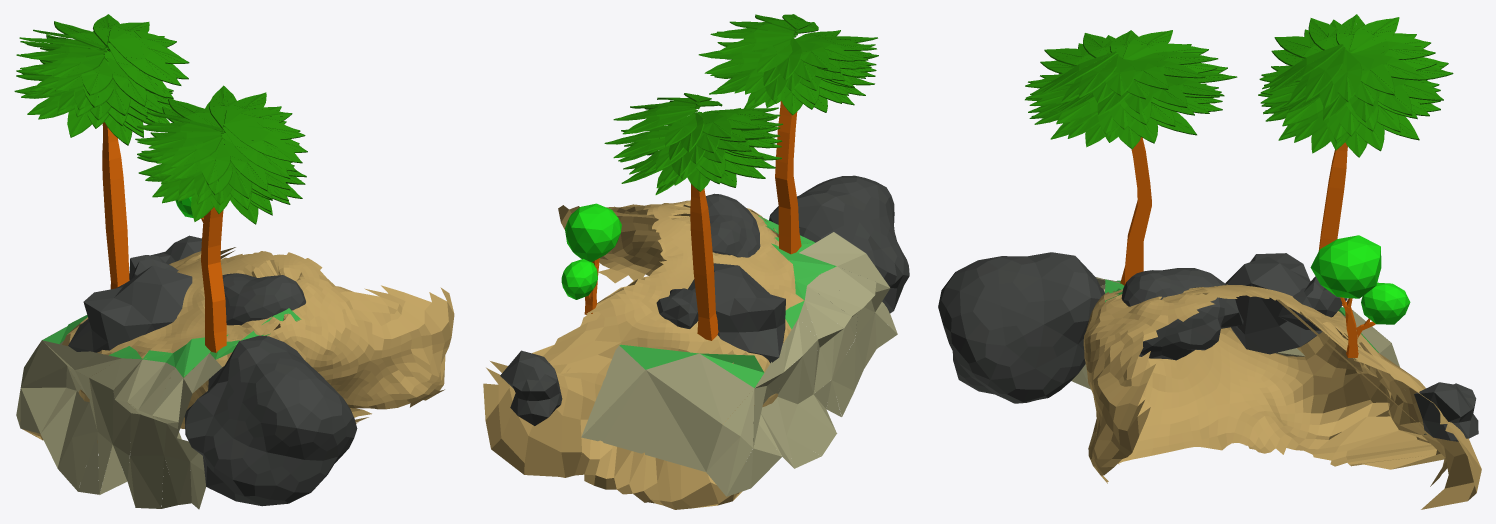
Rendered from island.glb.
The picture shows the model from 3 angles, left to right: view 1: azimuth 30°, elevation 25°; view 2: azimuth 150°, elevation 25°; view 3: azimuth 270°, elevation 25°; orthographic projection. The views are drawn at different scales.
Visible parts, largest first — view 1: 棱角球.004, 平面.040, 棱角球, 平面.108, 平面.062, 棱角球.001, 棱角球.005, 立方体, 立方体.001, 平面.002, 棱角球.003, 棱角球.002; view 2: 平面.040, 棱角球.004, 平面.108, 平面.062, 棱角球, 棱角球.001, 平面.002, 棱角球.003, 立方体, 立方体.001, 棱角球.005, 棱角球.008 (+2 smaller); view 3: 棱角球.004, 棱角球, 平面.062, 平面.108, 棱角球.005, 棱角球.001, 棱角球.008, 棱角球.003, 立方体.001, 立方体, 棱角球.006, 棱角球.002 (+2 smaller).
Boxes of the visible parts, <box> form: 棱角球.004: <box>20,247,454,442</box>; 平面.040: <box>16,327,222,509</box>; 棱角球: <box>184,335,357,506</box>; 平面.108: <box>135,85,307,224</box>; 平面.062: <box>14,14,189,145</box>; 棱角球.001: <box>68,265,192,352</box>; 棱角球.005: <box>222,273,305,325</box>; 立方体: <box>102,122,129,289</box>; 立方体.001: <box>201,207,226,352</box>; 平面.002: <box>42,308,301,377</box>; 棱角球.003: <box>151,235,201,264</box>; 棱角球.002: <box>129,255,178,279</box>; 平面.040: <box>581,232,897,496</box>; 棱角球.004: <box>483,200,804,509</box>; 平面.108: <box>698,14,878,115</box>; 平面.062: <box>604,93,782,194</box>; 棱角球: <box>769,175,909,313</box>; 棱角球.001: <box>688,263,785,363</box>; 平面.002: <box>619,215,836,387</box>; 棱角球.003: <box>500,350,562,425</box>; 立方体: <box>690,184,718,340</box>; 立方体.001: <box>775,101,801,254</box>; 棱角球.005: <box>706,193,760,257</box>; 棱角球.008: <box>565,203,621,262</box>; 棱角球.004: <box>1083,284,1481,509</box>; 棱角球: <box>938,252,1104,403</box>; 平面.062: <box>1258,14,1453,157</box>; 平面.108: <box>1025,30,1237,149</box>; 棱角球.005: <box>1121,268,1243,360</box>; 棱角球.001: <box>1225,253,1322,354</box>; 棱角球.008: <box>1310,235,1381,298</box>; 棱角球.003: <box>1414,382,1478,441</box>; 立方体.001: <box>1120,137,1151,285</box>; 立方体: <box>1318,142,1347,250</box>; 棱角球.006: <box>1361,282,1410,324</box>; 棱角球.002: <box>1278,276,1347,330</box>.
Bounding box in the file's own units: 11.12 × 12.99 × 15.59.
